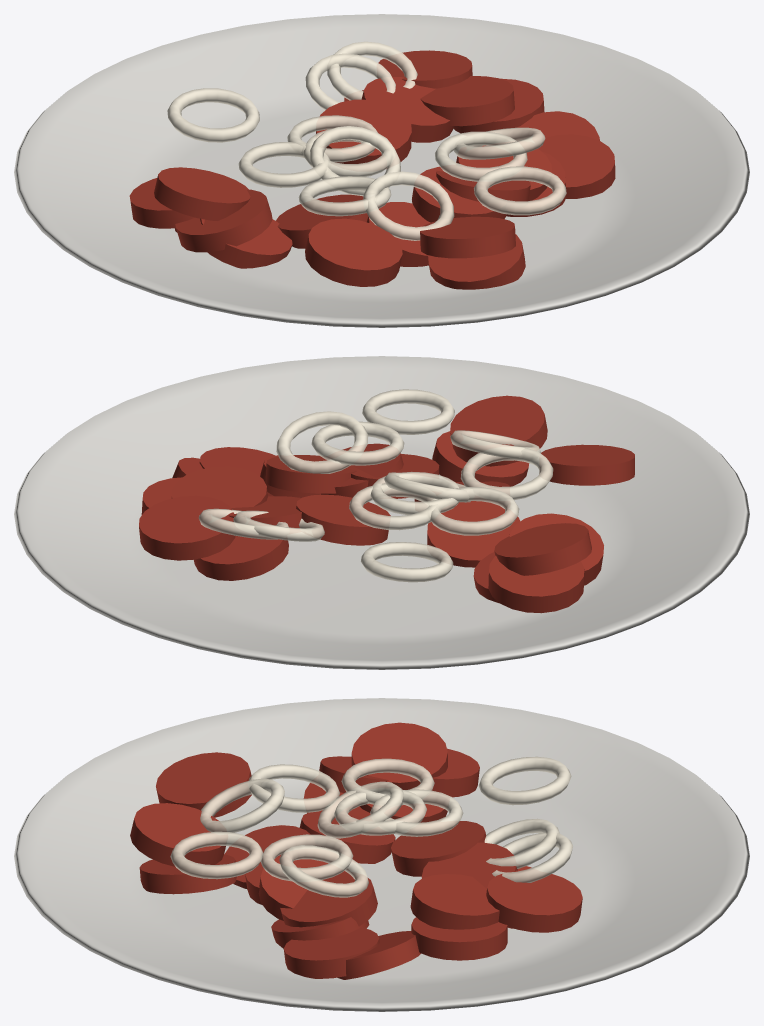
Rendered from calabresa.glb.
The picture shows the model from 3 angles, top to bottom: view 1: azimuth 30°, elevation 25°; view 2: azimuth 150°, elevation 25°; view 3: azimuth 270°, elevation 25°; orthographic projection.
Visible parts, largest first — view 1: calabresa; view 2: calabresa; view 3: calabresa.
Part boxes in pixels (box(x1,y1,x2,y2)): calabresa: box(14, 14, 749, 327); calabresa: box(14, 356, 749, 669); calabresa: box(14, 698, 749, 1011).
Size of the model in its own units: 0.26 by 0.0388 by 0.26.
